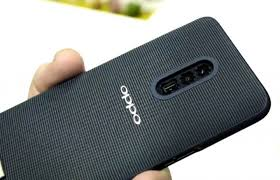oppo: (1, 14, 274, 180)
